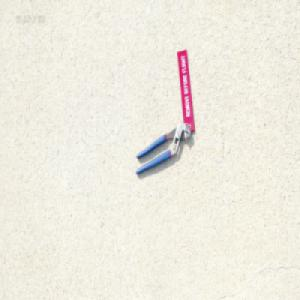Label: (177, 49, 196, 131)
Pliers: (135, 121, 192, 175)
